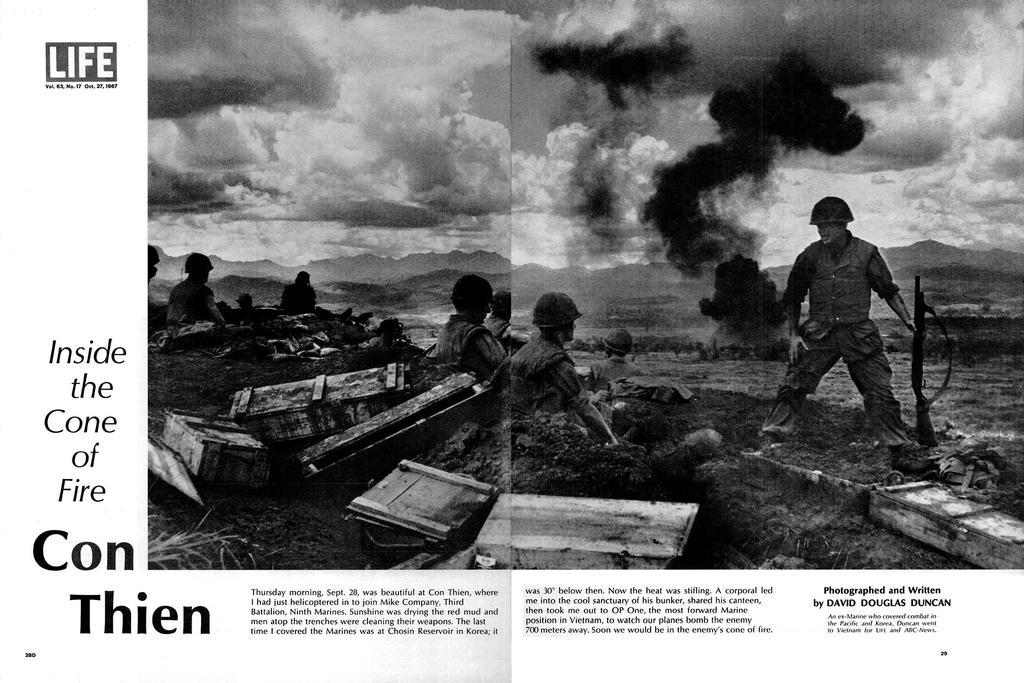non-violence: (772, 193, 899, 428), (512, 296, 583, 425), (432, 275, 506, 379), (586, 331, 650, 434), (168, 252, 225, 322)
weapon: (900, 263, 963, 458)
